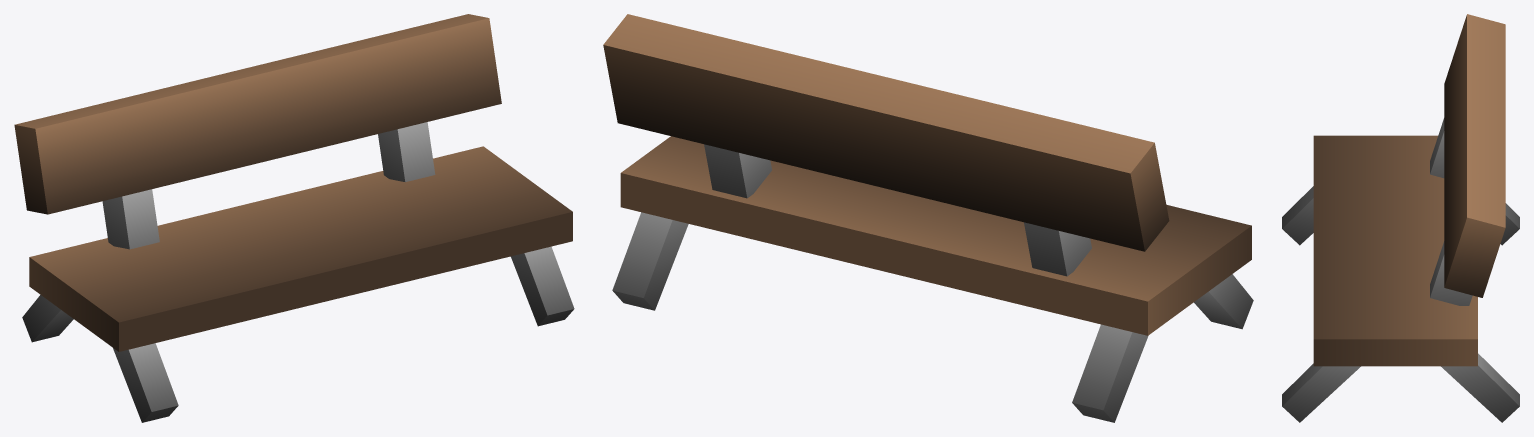
The model's file is banco da praca.fbx.
The picture shows the model from 3 angles, left to right: view 1: azimuth 30°, elevation 25°; view 2: azimuth 150°, elevation 25°; view 3: azimuth 270°, elevation 25°; orthographic projection. The views are drawn at different scales.
Visible parts, largest first — view 1: banco praca; view 2: banco praca; view 3: banco praca.
Boxes of the visible parts, bbox=[...] form: banco praca: bbox=[14, 14, 574, 422]; banco praca: bbox=[603, 14, 1253, 422]; banco praca: bbox=[1282, 14, 1519, 422].
Size of the model in its own units: 190 by 92.3 by 93.63.
